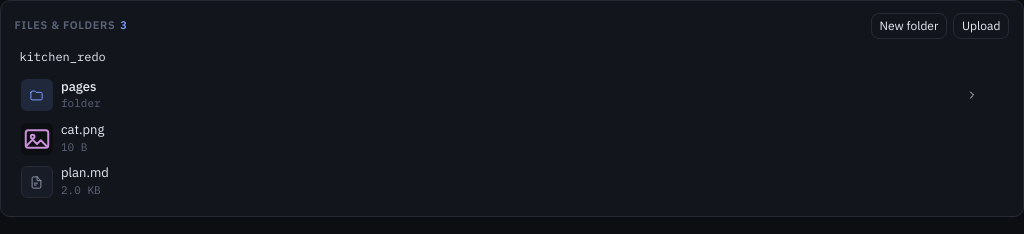
Test: the project explorer › uploads into the folder being looked at, then re-reads it
This screenshot has width=1024, height=234.
Click the text "pages" at {"x": 79, "y": 86}, box [61,78,96,94]
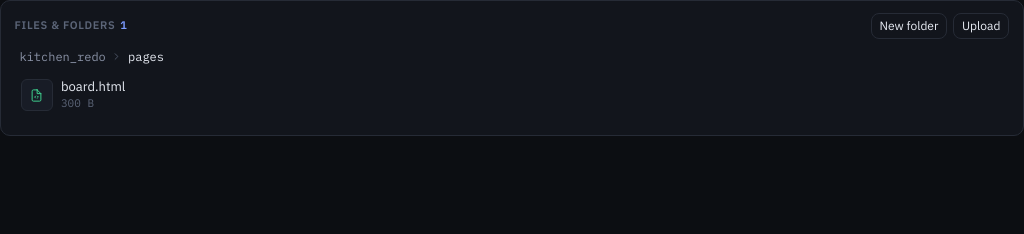
Now the text "board.html" is shown, box [61,78,125,94]
